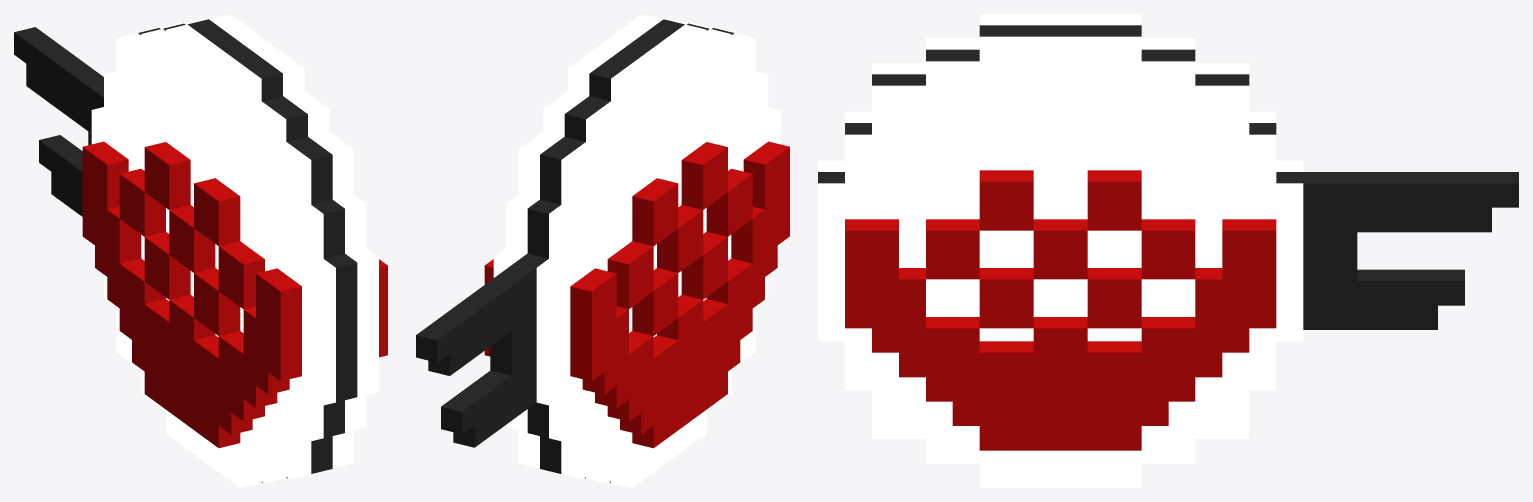
The model's file is artistAgencySign.glb.
The picture shows the model from 3 angles, left to right: view 1: azimuth 30°, elevation 25°; view 2: azimuth 150°, elevation 25°; view 3: azimuth 270°, elevation 25°; orthographic projection. The views are drawn at different scales.
Parts seen in each view (by area): view 1: ObjObject; view 2: ObjObject; view 3: ObjObject.
Part boxes in pixels (x1,y1,x2,y2): ObjObject: [14, 14, 387, 487]; ObjObject: [416, 14, 789, 487]; ObjObject: [818, 14, 1518, 487].
Size of the model in its own units: 0.5 by 1.8 by 2.6.
Materials: 2 (1 with a texture image).
